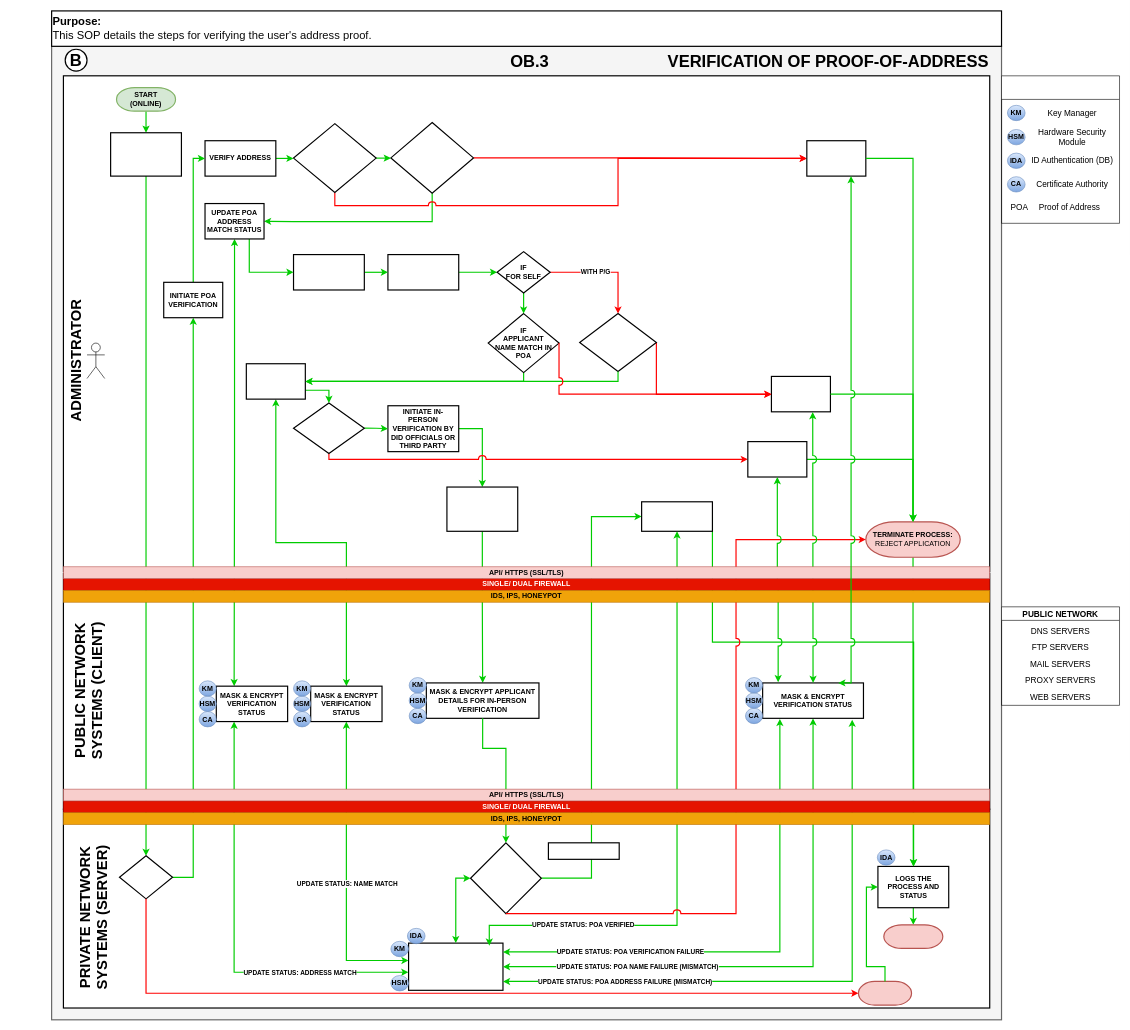
The diagram is 1130 pixels wide and 1030 high, and some of its shapes have lost their labels. The shapes that lost their labels are listed below. From the top down, each one's box as (x1, y1, x2, y2) in pixels, then its label:
(110, 132, 182, 176): ACCESS RID ACCOUNT FOR POA VALIDATION STATUS
(293, 123, 376, 193): IF POSTCODE IN COUNTRY OF APPLICATION
(390, 122, 474, 194): IF ADDRESS NOT A PO-BOX OR NON-RESIDENTIAL
(806, 140, 866, 176): UPDATE POA ADDRESS VERIFICATION FAILURE
(1001, 75, 1120, 223): LEGEND
(293, 254, 365, 290): VERIFY NAME ON POA
(387, 254, 459, 290): CHECK ENROLMENT TYPE
(86, 342, 105, 378): ADMIN
(579, 313, 657, 372): IF P/G NAME MATCH IN POA
(245, 363, 306, 399): UPDATE POA NAME MATCH STATUS
(771, 376, 831, 412): UPDATE POA NAME VERIFICATION FAILURE
(293, 402, 365, 454): IF ADDRESS AND NAME MATCH
(747, 441, 807, 477): UPDATE POA VERIFICATION FAILURE
(446, 486, 518, 532): RECEIVE NOTIFICATION OF IN-PERSON VERIFICATION REPORT
(641, 501, 713, 532): UPDATE POA VERIFIED STATUS
(548, 842, 620, 860): NOTIFICATION GENERATOR
(119, 855, 173, 899): IF POA VALIDATED
(470, 842, 542, 914): IF IN-PERSON ADDRESS VERIFICATION SUCCESS
(883, 924, 943, 949): END
(408, 942, 503, 991): STORE STATUS IN RID ACCOUNT
(858, 981, 912, 1005): TERMINATE PROCESS
